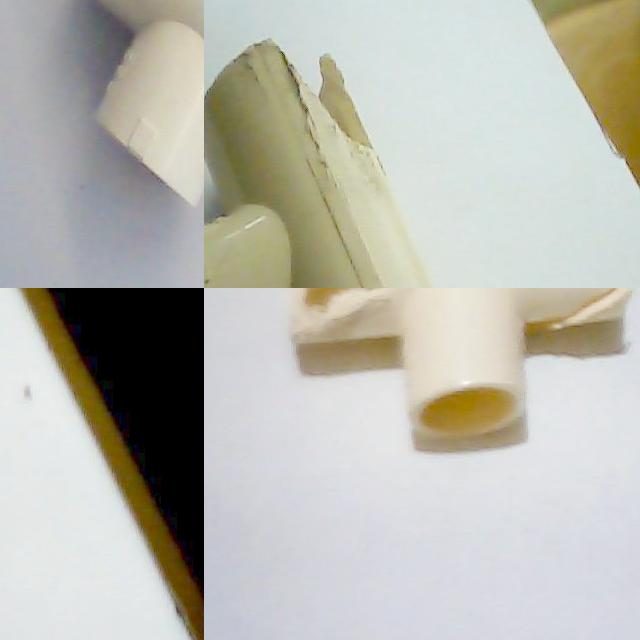Defective: (270, 40, 376, 152), (282, 288, 412, 343), (293, 56, 368, 148), (544, 288, 630, 362)
T Joint: (204, 39, 434, 288), (285, 288, 632, 437)
